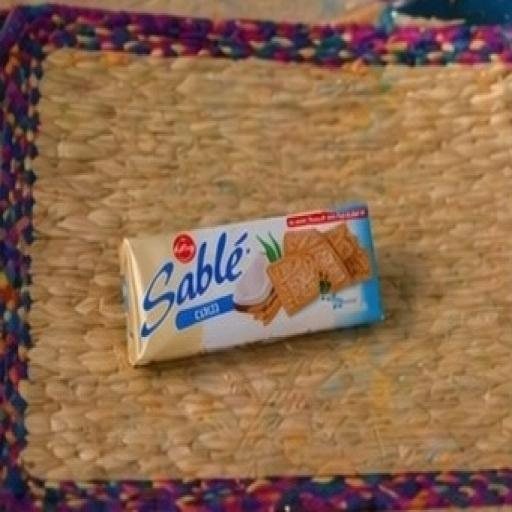sable: (93, 170, 428, 408)
